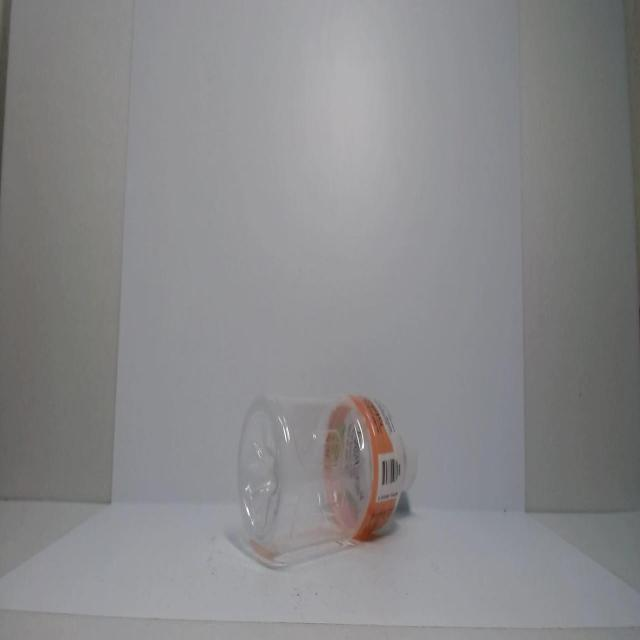bottle: (234, 389, 419, 559)
